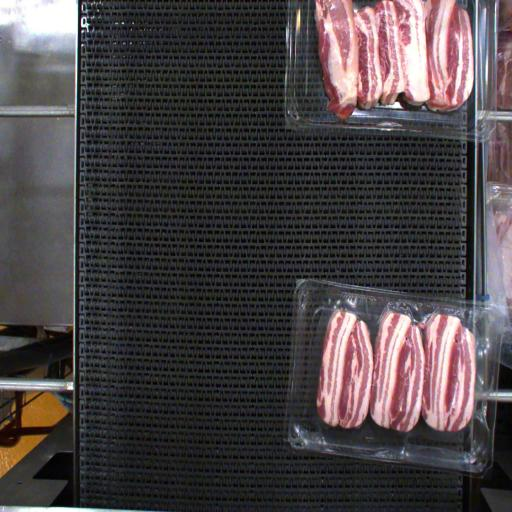unsealed: (301, 278, 497, 441)
